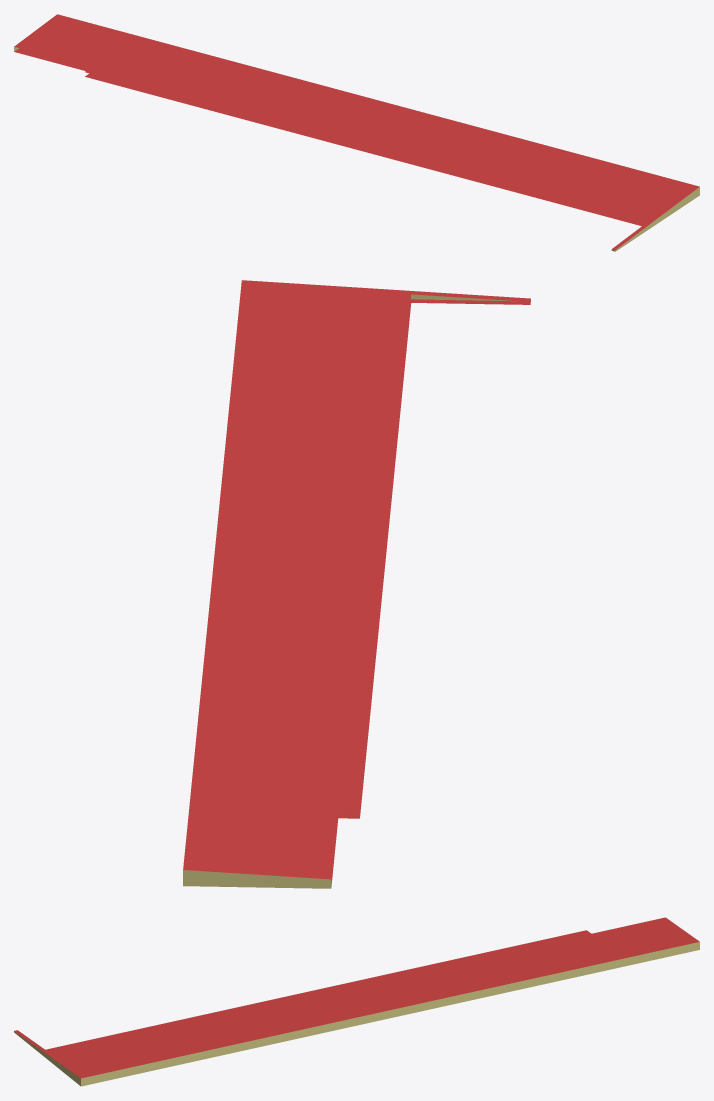
3 renders of one model, top to bottom at view 1: azimuth 30°, elevation 25°; view 2: azimuth 150°, elevation 25°; view 3: azimuth 270°, elevation 25°, orthographic. The views are drawn at different scales.
Bounding box in the file's own units: 23.57 × 41.54 × 0.542.
